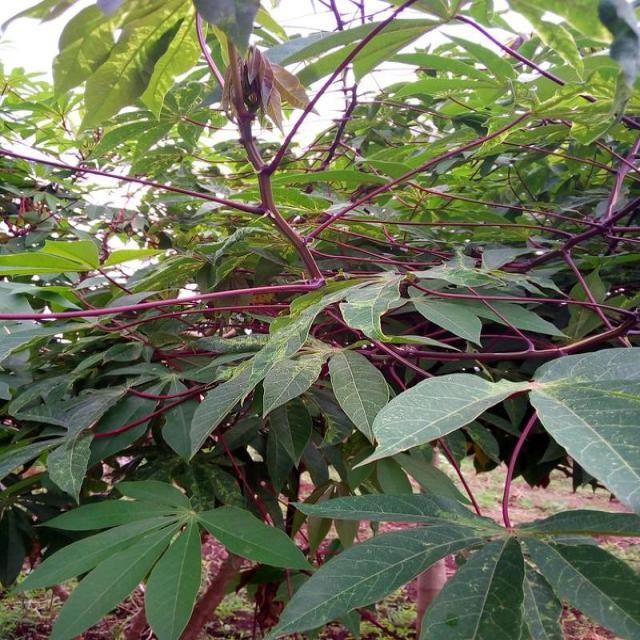cassava leaf: (0, 0, 638, 638), (527, 345, 639, 515)
